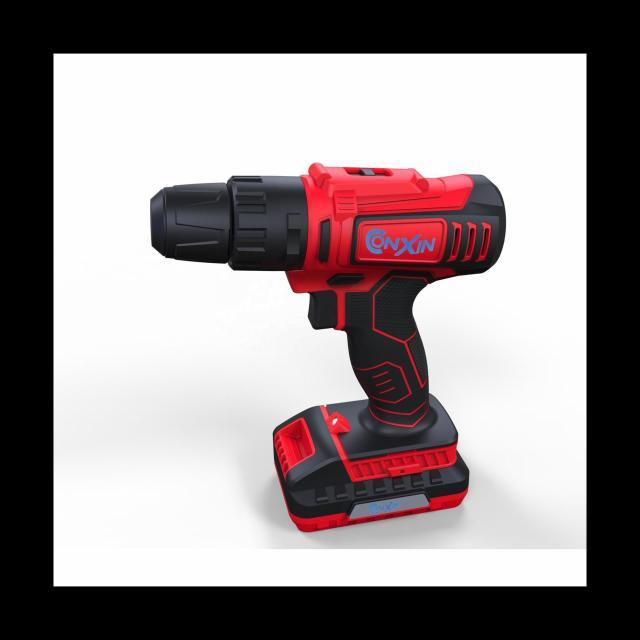drill: (149, 162, 506, 534)
